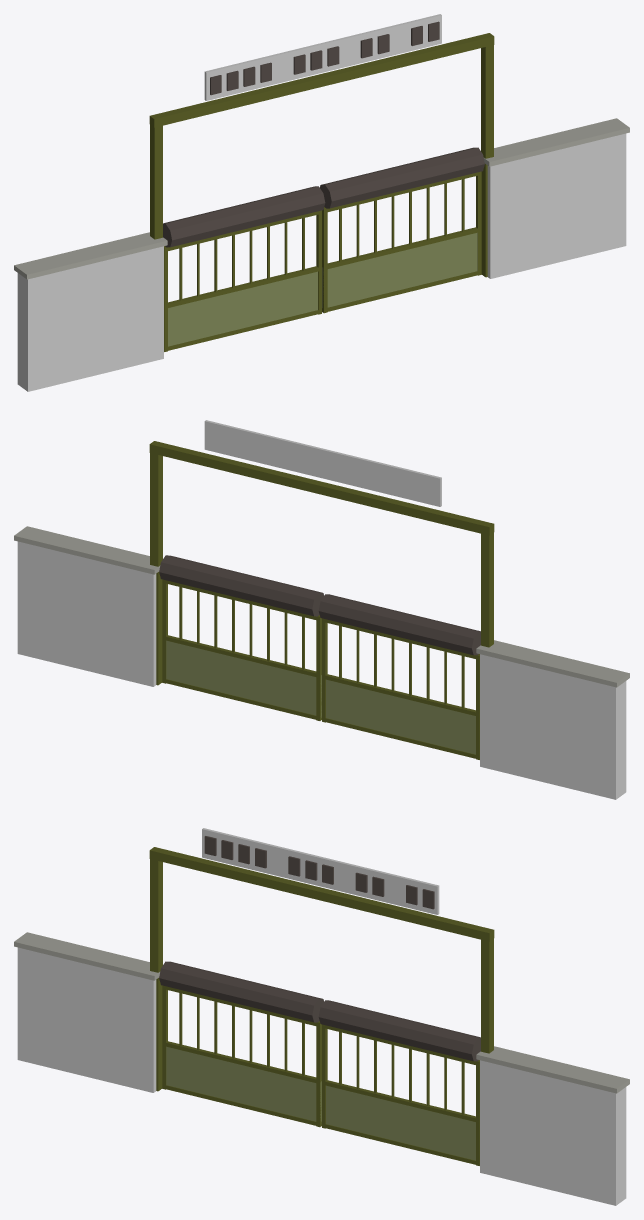
Rendered from SM_PuertaValla_v3_LOD0.fbx.
The picture shows the model from 3 angles, top to bottom: view 1: azimuth 30°, elevation 25°; view 2: azimuth 150°, elevation 25°; view 3: azimuth 330°, elevation 25°; orthographic projection.
Parts seen in each view (by area): view 1: SM_bloques.puerta_valla_v3_LOD0, Hoja_E, Hoja_O; view 2: SM_bloques.puerta_valla_v3_LOD0, Hoja_E, Hoja_O; view 3: SM_bloques.puerta_valla_v3_LOD0, Hoja_O, Hoja_E.
Boxes of the visible parts, left/top/right/bottom form: SM_bloques.puerta_valla_v3_LOD0: left=14, top=14, right=629, bottom=391; Hoja_E: left=320, top=147, right=484, bottom=313; Hoja_O: left=163, top=186, right=325, bottom=351; SM_bloques.puerta_valla_v3_LOD0: left=14, top=420, right=629, bottom=799; Hoja_E: left=159, top=555, right=323, bottom=720; Hoja_O: left=318, top=594, right=480, bottom=759; SM_bloques.puerta_valla_v3_LOD0: left=14, top=828, right=629, bottom=1205; Hoja_O: left=159, top=961, right=323, bottom=1127; Hoja_E: left=318, top=1000, right=480, bottom=1165.
Size of the model in its own units: 13.3 by 5.75 by 0.5.
